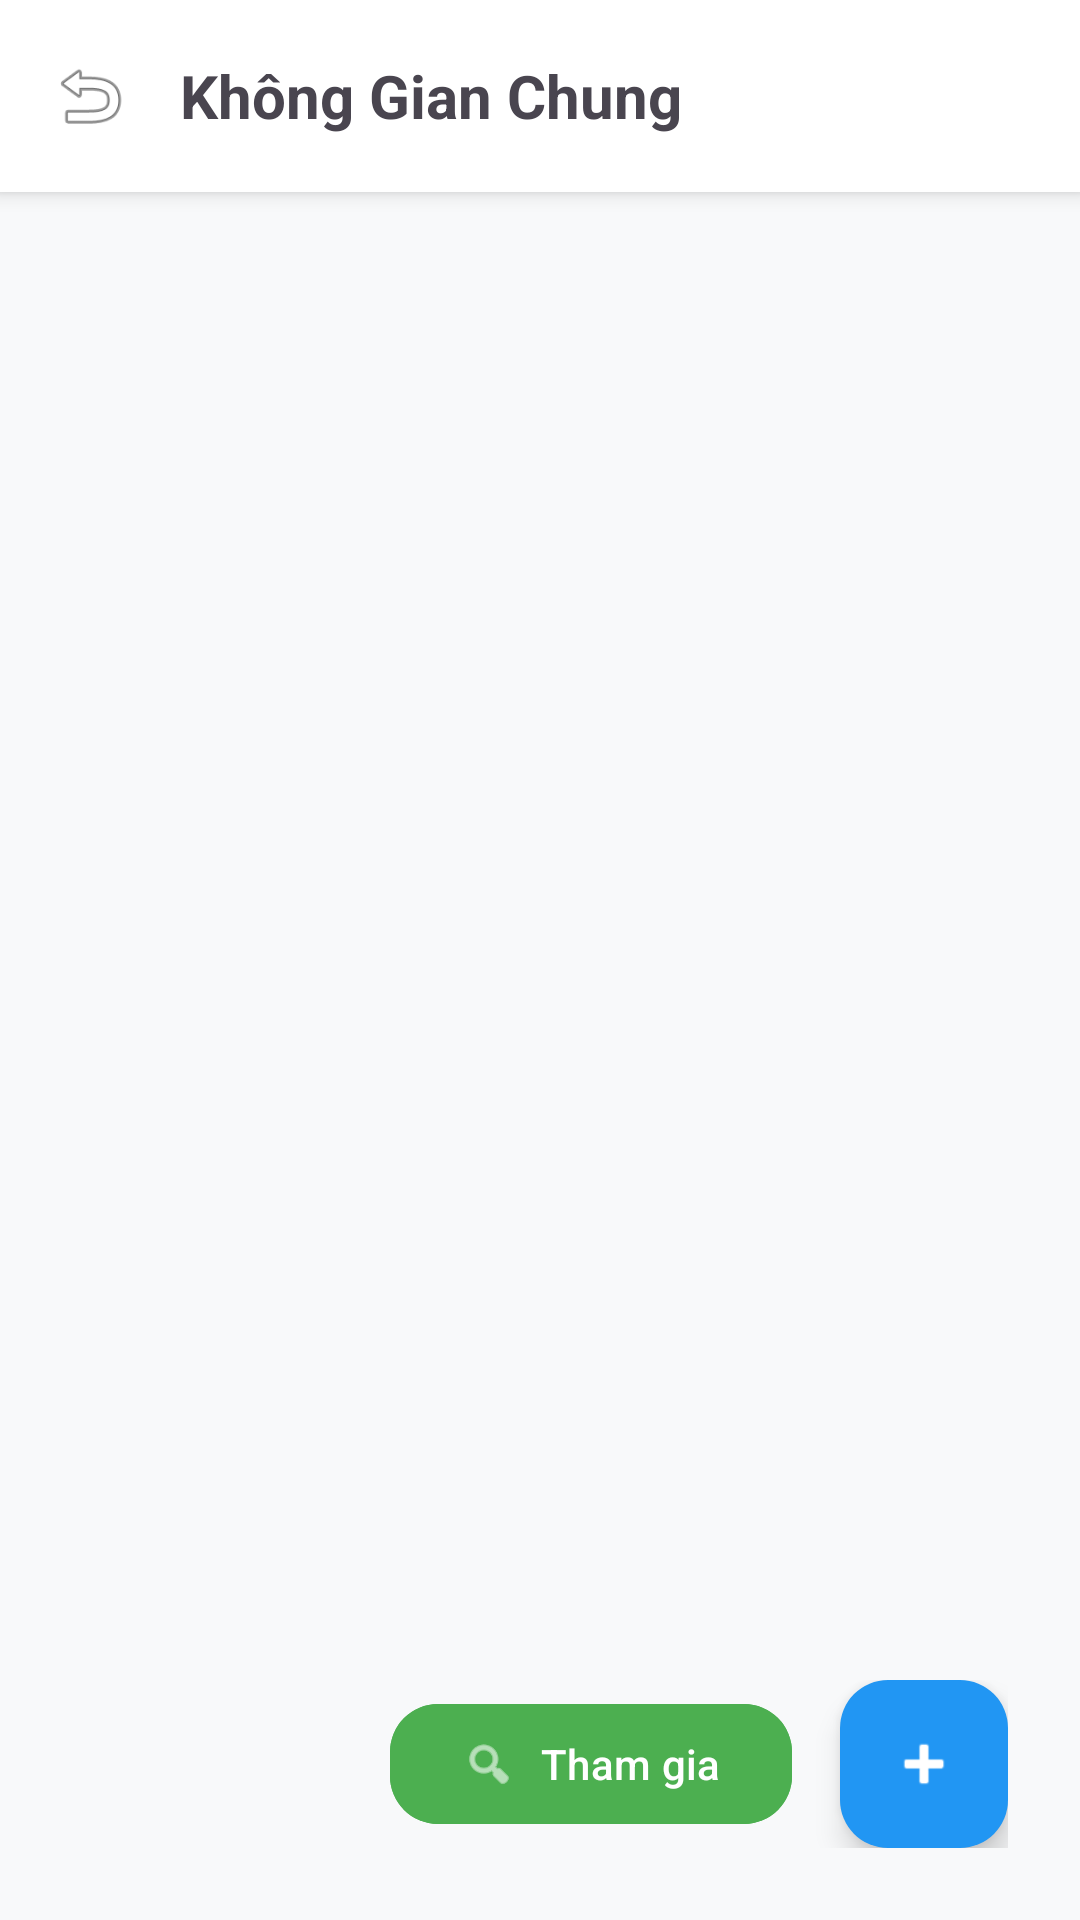

Screen size 1080×1920. Icon name, then its box in pixels as box=[x1, y1, x2, y2]:
add: box=[840, 1680, 1008, 1848]
revert: box=[61, 69, 122, 124]
